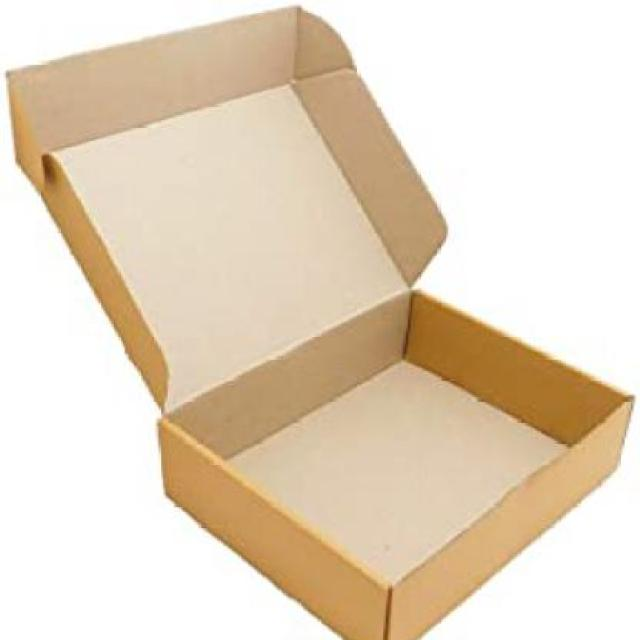box: (0, 6, 638, 639)
